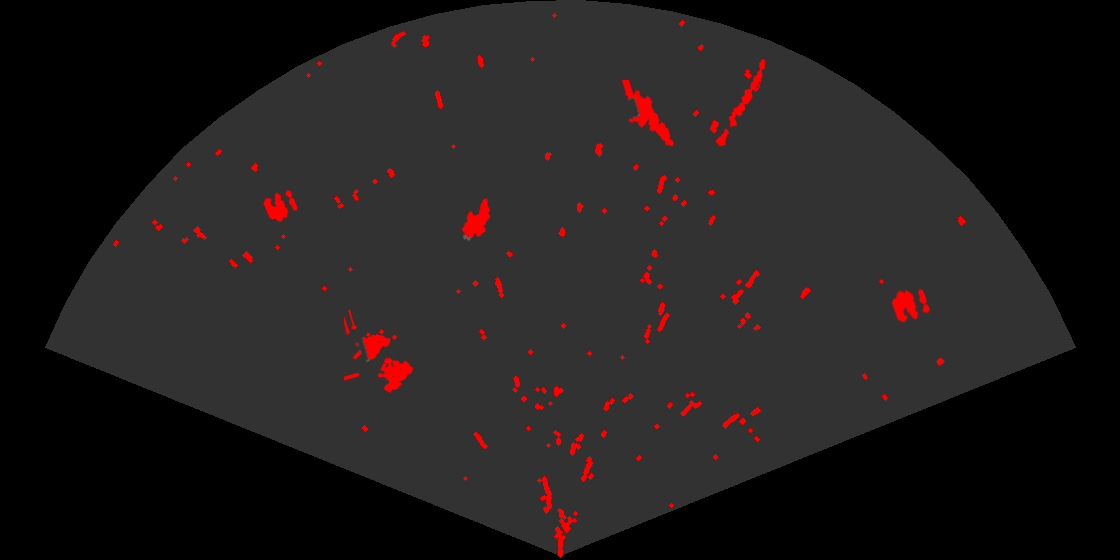AUV: (460, 197, 492, 242)
ball: (890, 287, 932, 324), (262, 188, 299, 224)
cage: (344, 310, 415, 394)
chain: (714, 58, 767, 148)
frogman: (620, 80, 675, 148)
